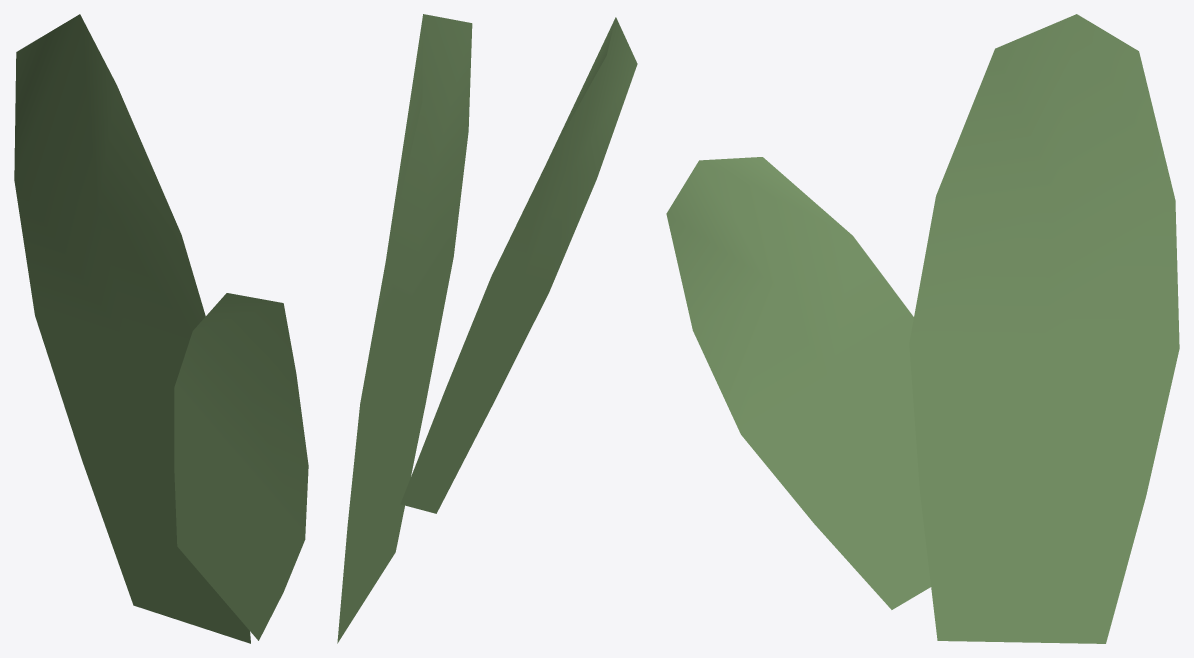
File: Pasto_grp2.fbx
3 renders of one model, left to right at view 1: azimuth 30°, elevation 25°; view 2: azimuth 150°, elevation 25°; view 3: azimuth 270°, elevation 25°, orthographic. The views are drawn at different scales.
Parts seen in each view (by area): view 1: pPlane66, pPlane67; view 2: pPlane66, pPlane67; view 3: pPlane66, pPlane67.
Part boxes in pixels (box(x1,y1,x2,y2)): pPlane66: box(14, 14, 250, 643); pPlane67: box(174, 293, 308, 640); pPlane66: box(337, 14, 472, 643); pPlane67: box(400, 17, 637, 513); pPlane66: box(909, 14, 1179, 643); pPlane67: box(666, 157, 930, 609).
Size of the model in its own units: 0.1899 by 0.8614 by 0.6703.
